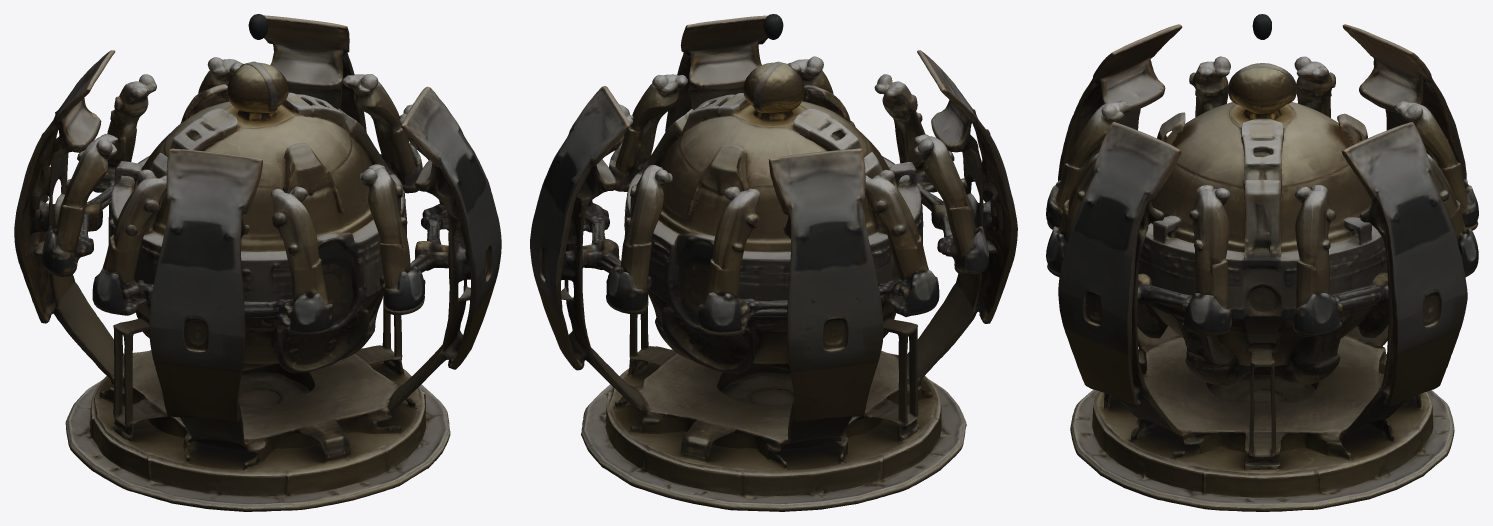
The model's file is std_trellis_spherical_robot.glb.
3 renders of one model, left to right at view 1: azimuth 30°, elevation 25°; view 2: azimuth 150°, elevation 25°; view 3: azimuth 270°, elevation 25°, orthographic.
Visible parts, largest first — view 1: world; view 2: world; view 3: world.
Boxes of the visible parts, x1=… form: world: x1=14, y1=14, x2=501, y2=511; world: x1=530, y1=14, x2=1017, y2=511; world: x1=1046, y1=14, x2=1478, y2=511.
Bounding box in the file's own units: 0.9414 × 1 × 0.9415.
Materials: 1 (1 with a texture image).
